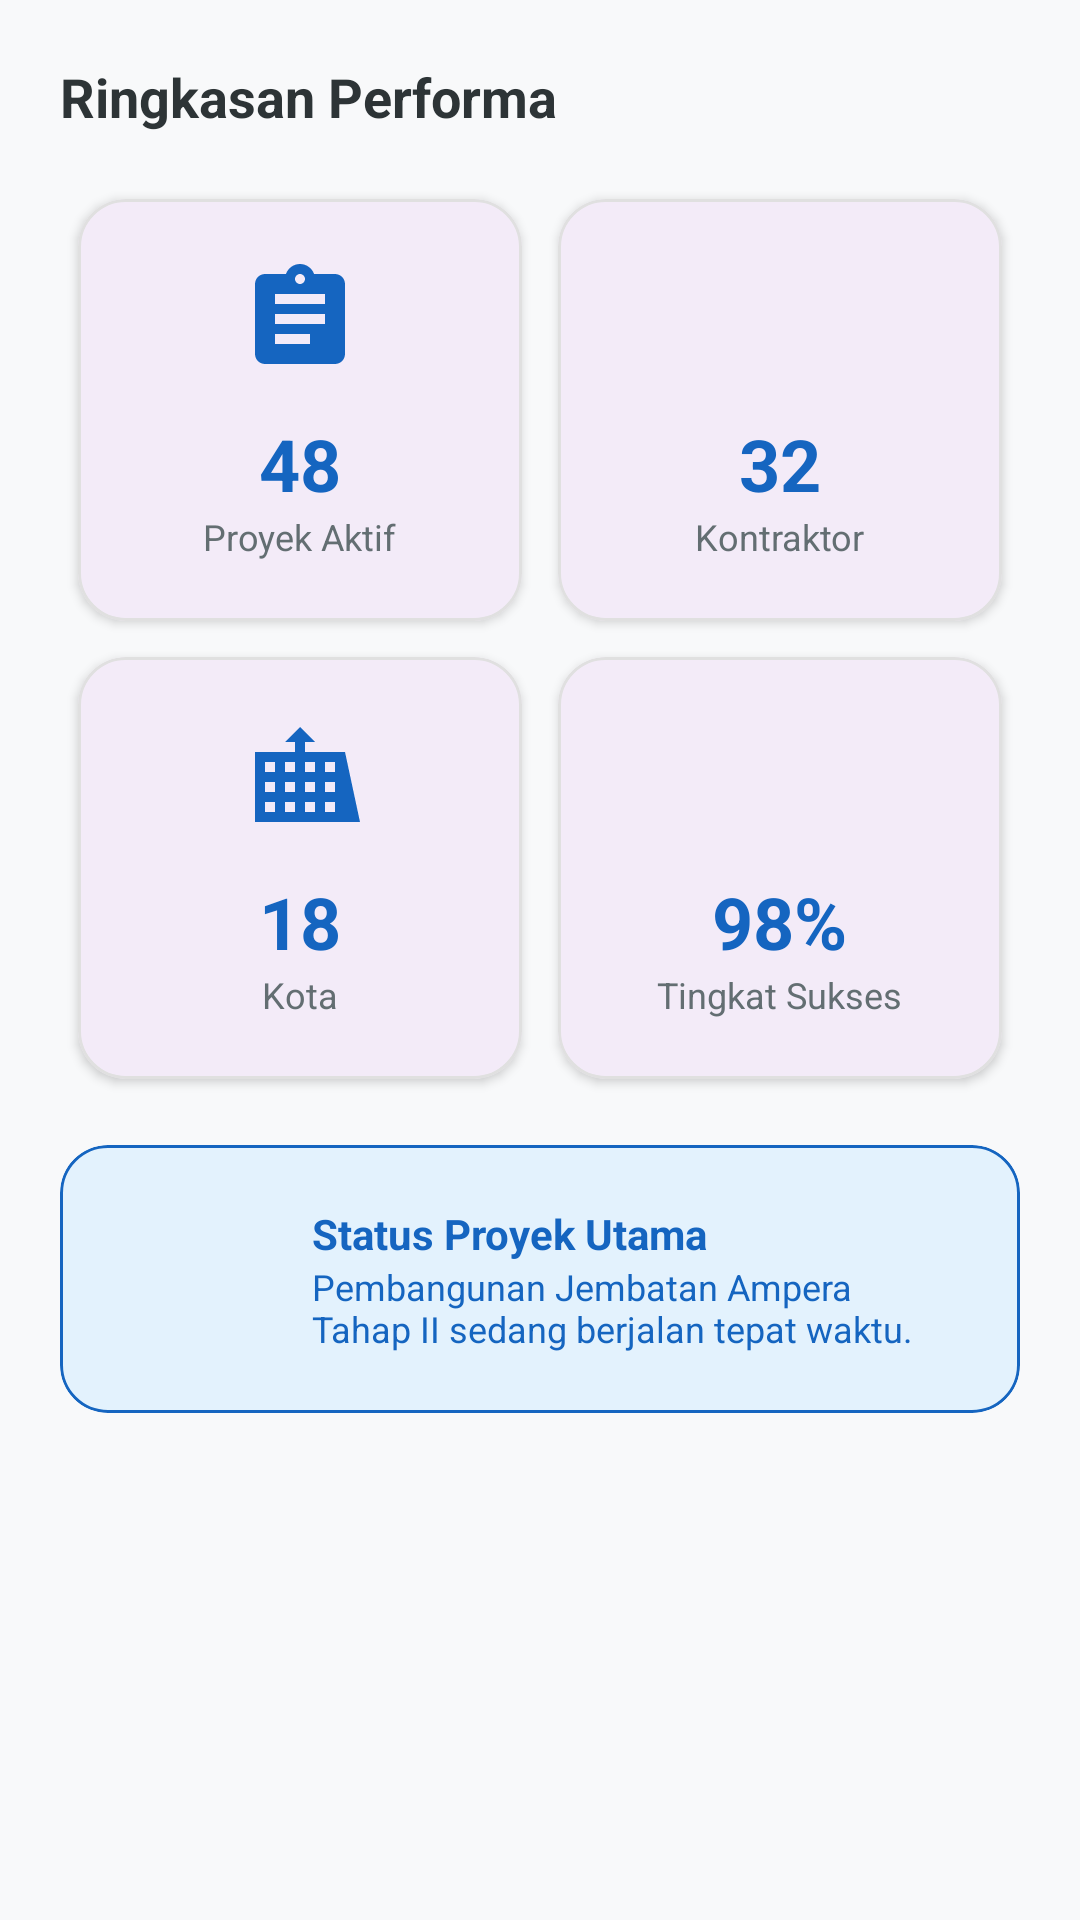

Icons on this 1080 x 1920 Android screen, each with its box as box(x1, y1, x2, y2):
location city: box(255, 727, 360, 822)
project info: box(255, 264, 345, 364)
